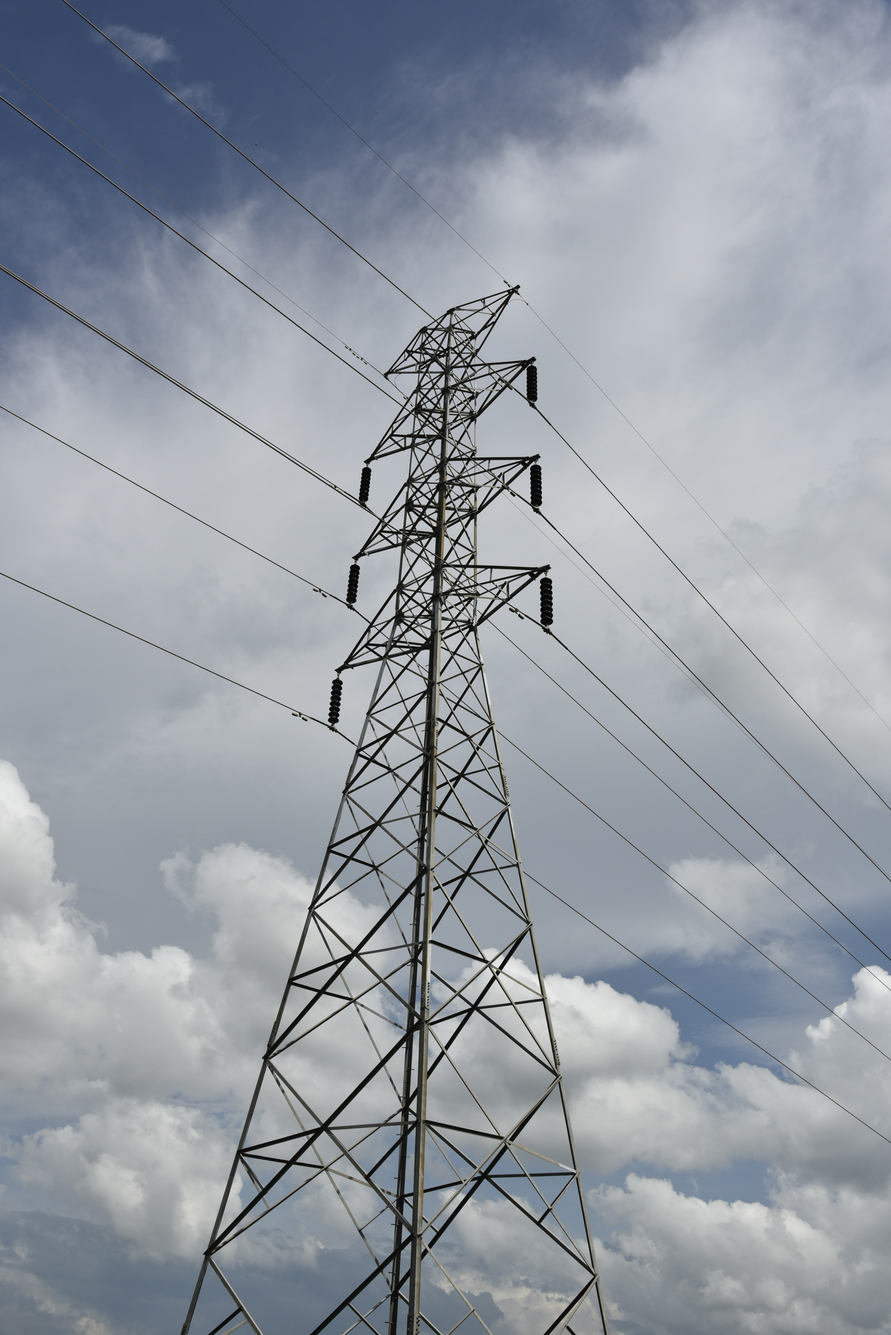insulator: (326, 676, 346, 726), (525, 458, 543, 511), (538, 574, 555, 629), (343, 563, 365, 603), (522, 361, 540, 408), (355, 464, 375, 504)
